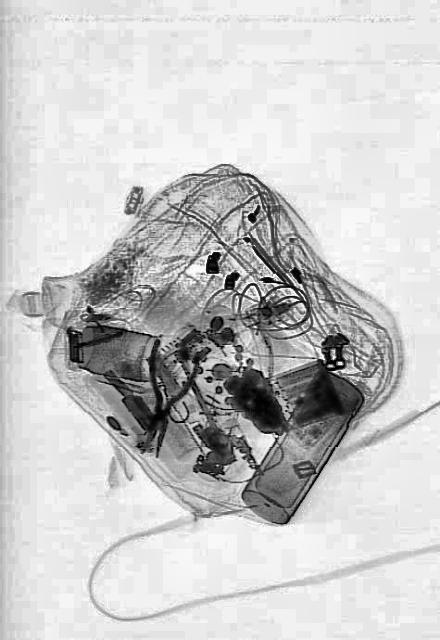Pliers: (126, 336, 198, 468)
